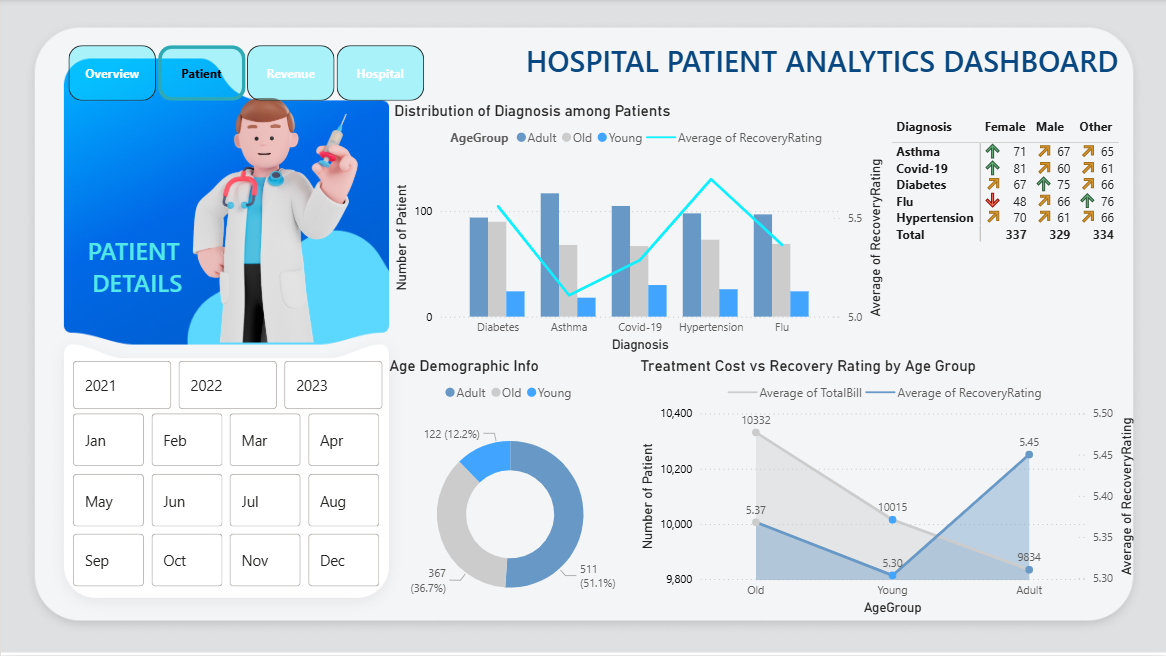

The page's visual inventory and layout, read from the dashboard file:
{"tool":"powerbi","page":{"name":"Patient","canvas":[1280,720],"ordinal":1},"visuals":[{"type":"cardVisual","fields":{"Data":["Avg(hospital1_clean.TotalBill)"]},"box":[0,93.3,432.2,299.1],"z":0},{"type":"advancedSlicerVisual","fields":{"Values":["hospital1_clean.Month"]},"box":[74.1,450.1,347.2,200.3],"z":1000},{"type":"advancedSlicerVisual","fields":{"Values":["hospital1_clean.Year"]},"box":[74.1,392.5,352.7,63.1],"z":2000},{"type":"textbox","box":[537.9,41.2,727.3,52.1],"z":3000},{"type":"lineClusteredColumnComboChart","title":"Distribution of Diagnosis among Patients","fields":{"Category":["hospital1_clean.Diagnosis"],"Y":["CountNonNull(hospital1_clean.PatientID)"],"Y2":["Avg(hospital2_clean.RecoveryRating)"],"Series":["hospital1_clean.AgeGroup"]},"box":[426.8,112.5,546.1,279.9],"z":4000},{"type":"pivotTable","fields":{"Rows":["hospital1_clean.Diagnosis"],"Values":["CountNonNull(hospital1_clean.PatientID)"],"Columns":["hospital1_clean.Gender"]},"box":[972.9,126.2,285.4,155.1],"z":5000},{"type":"areaChart","title":"Treatment Cost vs Recovery Rating by Age Group","fields":{"Y2":["Avg(hospital2_clean.RecoveryRating)"],"Y":["Avg(hospital1_clean.TotalBill)"],"Category":["hospital1_clean.AgeGroup"]},"box":[697.1,392.5,551.6,288.2],"z":6000},{"type":"donutChart","title":"Age Demographic Info","fields":{"Category":["hospital1_clean.AgeGroup"],"Y":["CountNonNull(hospital1_clean.Age)"]},"box":[421.3,392.5,275.8,297.8],"z":7000},{"type":"textbox","box":[0,252.5,299.1,86.4],"z":8000},{"type":"pageNavigator","box":[74.1,50.8,392.5,61.7],"z":9001}]}

Visuals, with their boxes in screenshot pixels (x1, y1, x2, y2), scaled from the page's 1280x720 canvas onto the 1166x656 screenshot:
cardVisual - Avg(hospital1_clean.TotalBill): 0/85/394/358
advancedSlicerVisual - hospital1_clean.Month: 68/410/384/593
advancedSlicerVisual - hospital1_clean.Year: 68/358/389/415
textbox: 490/38/1153/85
"Distribution of Diagnosis among Patients" lineClusteredColumnComboChart: 389/102/886/358
pivotTable - hospital1_clean.Diagnosis x CountNonNull(hospital1_clean.PatientID): 886/115/1146/256
"Treatment Cost vs Recovery Rating by Age Group" areaChart: 635/358/1137/620
"Age Demographic Info" donutChart: 384/358/635/629
textbox: 0/230/272/309
pageNavigator: 68/46/425/102
